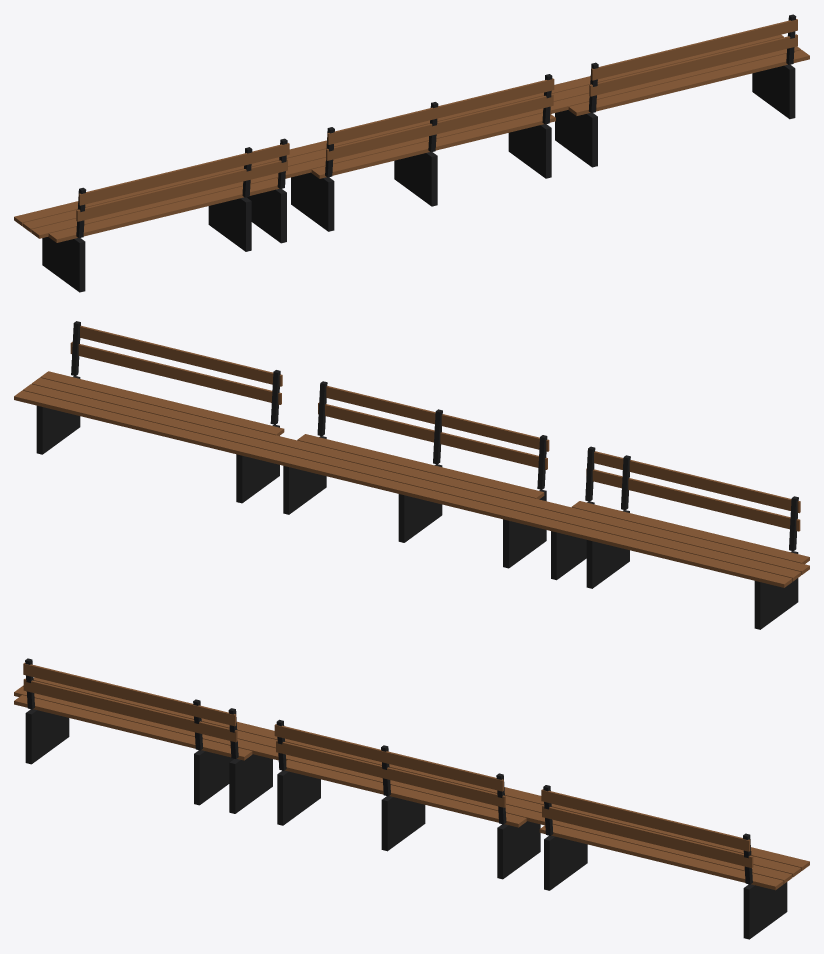
3 renders of one model, top to bottom at view 1: azimuth 30°, elevation 25°; view 2: azimuth 150°, elevation 25°; view 3: azimuth 330°, elevation 25°, orthographic.
Parts seen in each view (by area): view 1: parametric-variant-bench-3rd-d0a19cf5d2a6f8b80647; view 2: parametric-variant-bench-3rd-d0a19cf5d2a6f8b80647; view 3: parametric-variant-bench-3rd-d0a19cf5d2a6f8b80647.
Part boxes in pixels (left/top/right/bottom): parametric-variant-bench-3rd-d0a19cf5d2a6f8b80647: left=14, top=14, right=809, bottom=292; parametric-variant-bench-3rd-d0a19cf5d2a6f8b80647: left=14, top=321, right=809, bottom=629; parametric-variant-bench-3rd-d0a19cf5d2a6f8b80647: left=14, top=658, right=809, bottom=939.
Size of the model in its own units: 6.6 by 0.85 by 0.6174.
